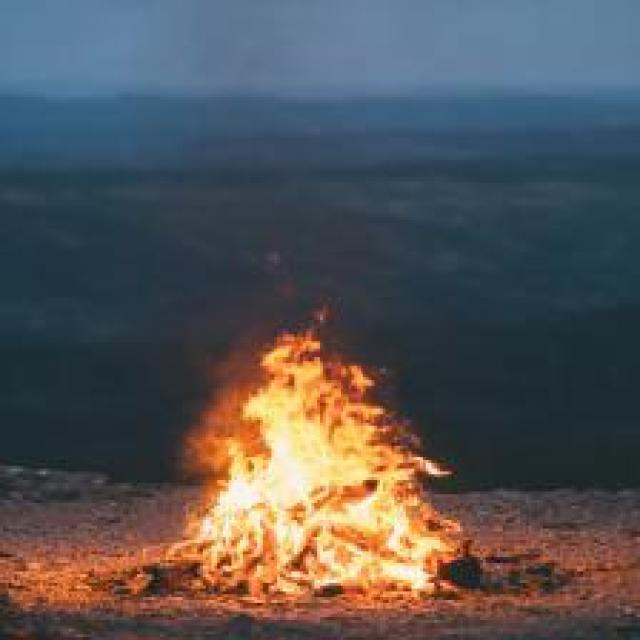Fire: (205, 370, 436, 584)
